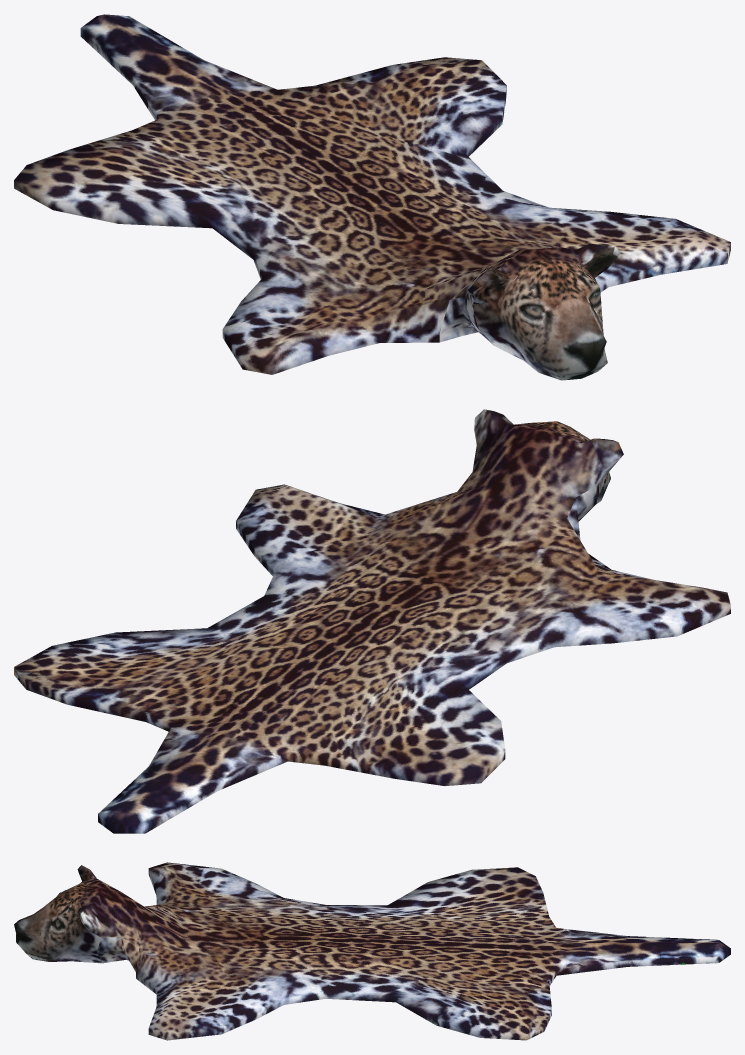
File: jaguar_rug.DAE
3 views of the same model, one above another, from view 1: azimuth 30°, elevation 25°; view 2: azimuth 150°, elevation 25°; view 3: azimuth 270°, elevation 25° (orthographic). The views are drawn at different scales.
Parts seen in each view (by area): view 1: Group1440; view 2: Group1440; view 3: Group1440.
Boxes of the visible parts, bbox=[...] form: Group1440: bbox=[14, 14, 730, 380]; Group1440: bbox=[14, 409, 730, 833]; Group1440: bbox=[14, 862, 730, 1040].
Size of the model in its own units: 1.48 by 2.6 by 0.2758.
